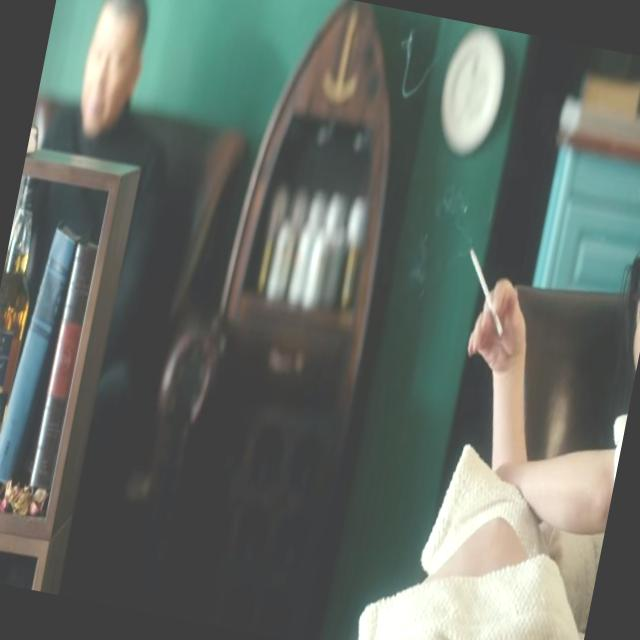cigarette: (448, 238, 522, 344)
